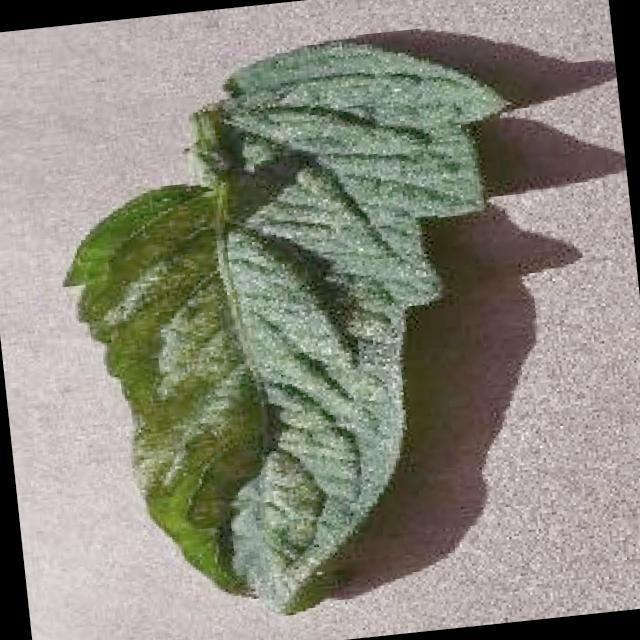Tomato spider mites leaf: (41, 29, 551, 638)
